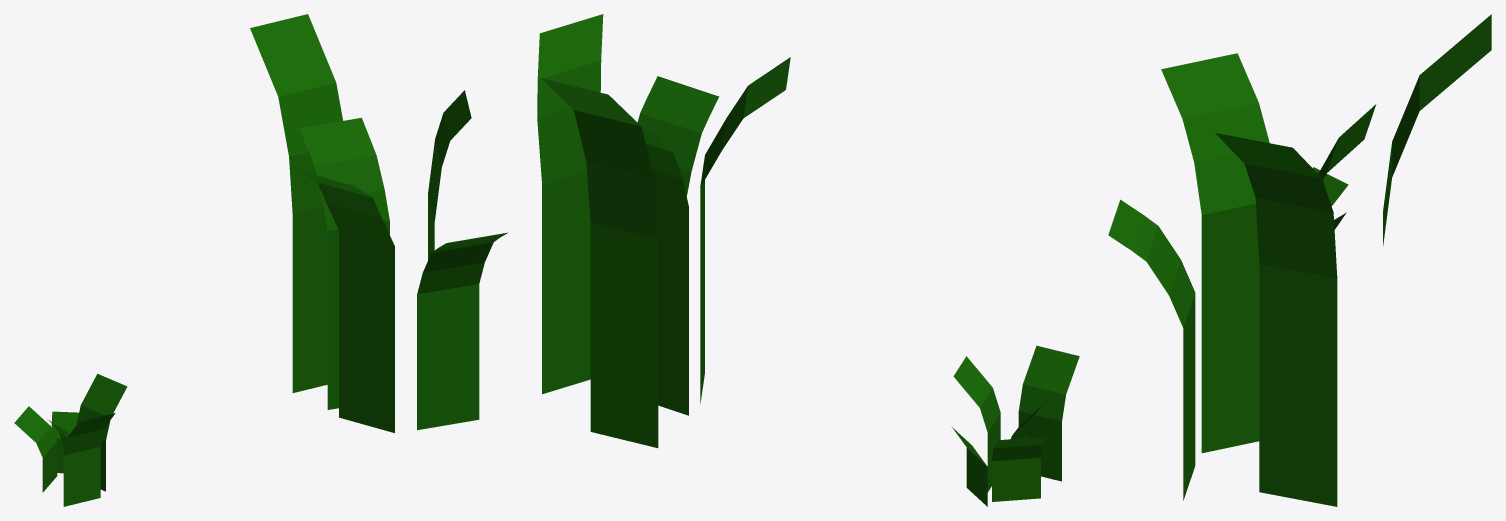
The model's file is TestGrass.fbx.
3 views of the same model, side by side, from view 1: azimuth 30°, elevation 25°; view 2: azimuth 150°, elevation 25°; view 3: azimuth 270°, elevation 25° (orthographic). The views are drawn at different scales.
Visible parts, largest first — view 1: TallGrass, ShortGrass; view 2: TallGrass, ShortGrass; view 3: TallGrass, ShortGrass.
Boxes of the visible parts, <box> form: TallGrass: <box>250,14,507,432</box>; ShortGrass: <box>14,374,127,506</box>; TallGrass: <box>537,14,790,447</box>; ShortGrass: <box>951,345,1079,506</box>; TallGrass: <box>1108,14,1491,506</box>; ShortGrass: <box>1313,167,1348,229</box>.
Size of the model in its own units: 32.97 by 23.85 by 19.41.
